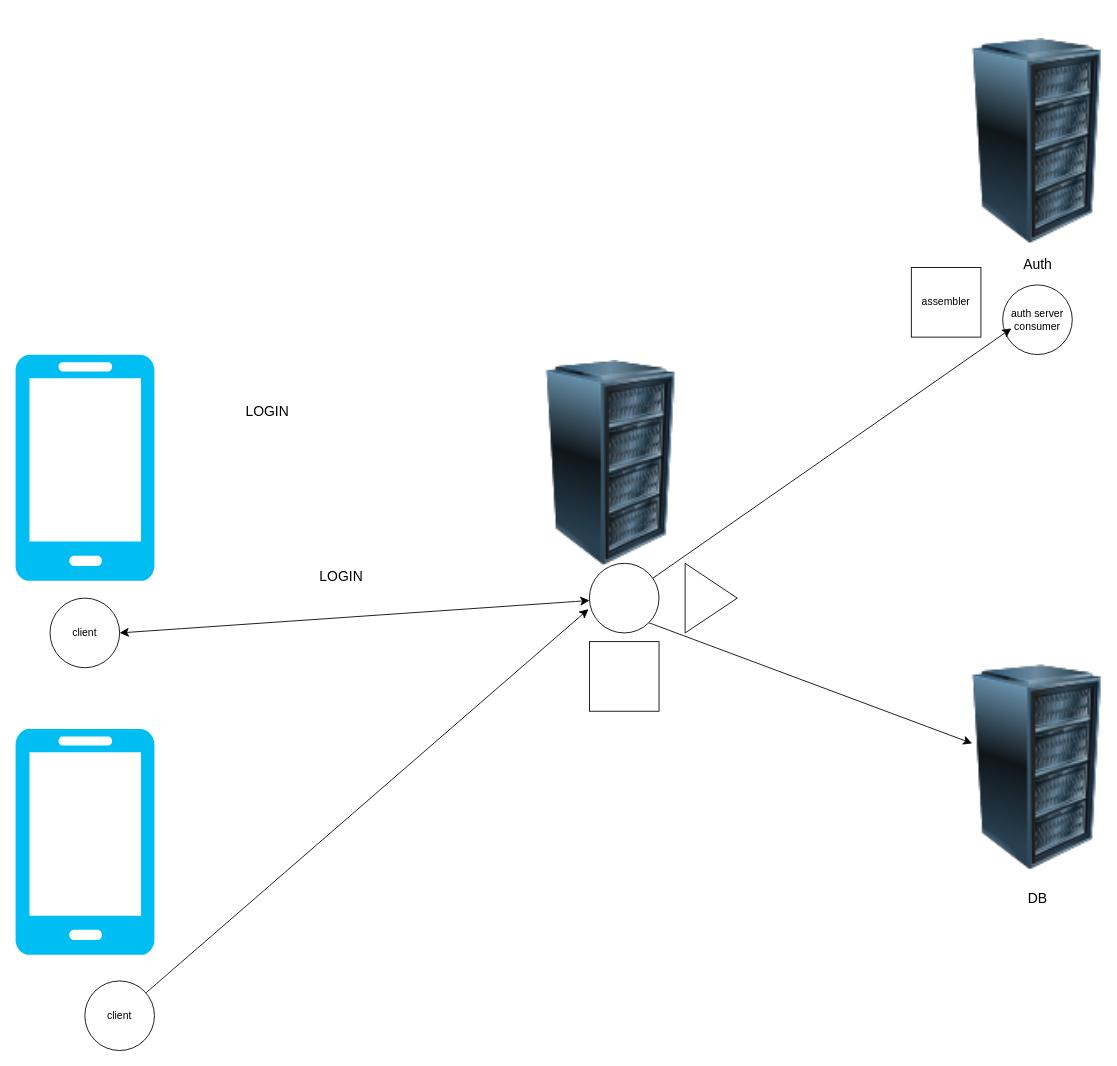
Image size: 1117x1066. Some labels were removed from this diagram. The shapes that lost their labels are listed below. From the top down, each one's centre as x and y in pixels, then its label:
At pixel 624 597: "server".
At pixel 710 597: "Dispatcher".
